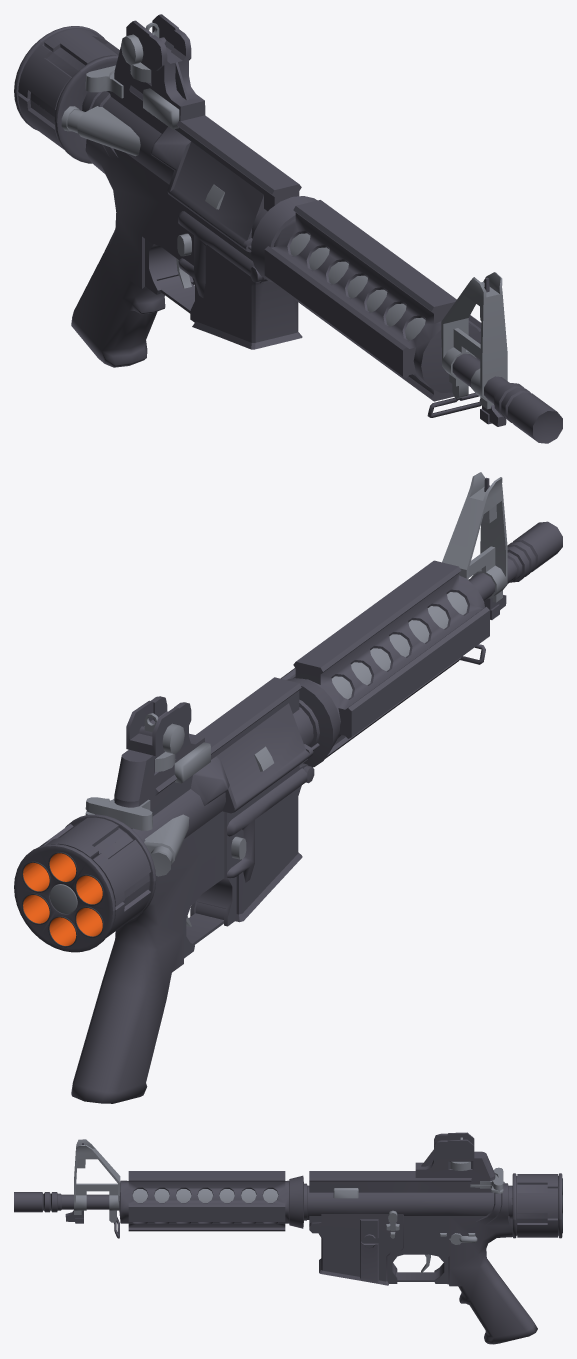
Rendered from gun_2.fbx.
3 views of the same model, one above another, from view 1: azimuth 30°, elevation 25°; view 2: azimuth 150°, elevation 25°; view 3: azimuth 270°, elevation 25° (orthographic). The views are drawn at different scales.
Visible parts, largest first — view 1: gun, 2, 1, 3; view 2: gun, 2, 1, 3, 6, 4, 5; view 3: gun, 6, 5, 1.
Part boxes in pixels (x1=…): gun: x1=61, y1=14, x2=562, y2=443; 2: x1=14, y1=40, x2=87, y2=122; 1: x1=39, y1=26, x2=118, y2=77; 3: x1=14, y1=92, x2=86, y2=161; gun: x1=71, y1=472, x2=562, y2=1103; 2: x1=71, y1=829, x2=156, y2=910; 1: x1=39, y1=814, x2=130, y2=887; 3: x1=70, y1=880, x2=156, y2=949; 6: x1=14, y1=817, x2=80, y2=895; 4: x1=39, y1=910, x2=89, y2=952; 5: x1=14, y1=887, x2=56, y2=937; gun: x1=14, y1=1132, x2=537, y2=1344; 6: x1=512, y1=1187, x2=562, y2=1219; 5: x1=512, y1=1213, x2=562, y2=1238; 1: x1=512, y1=1173, x2=562, y2=1194.
Size of the model in its own units: 168 by 554 by 1350.
